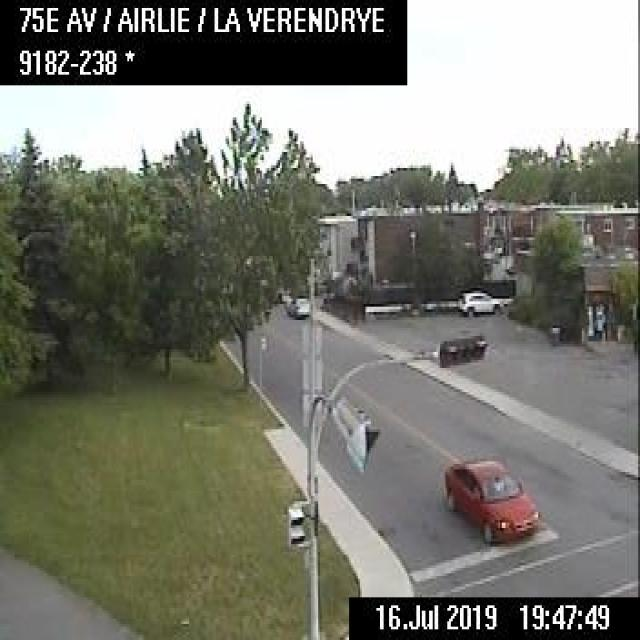vehicle: (438, 454, 540, 542), (456, 288, 503, 316), (284, 293, 309, 318)
